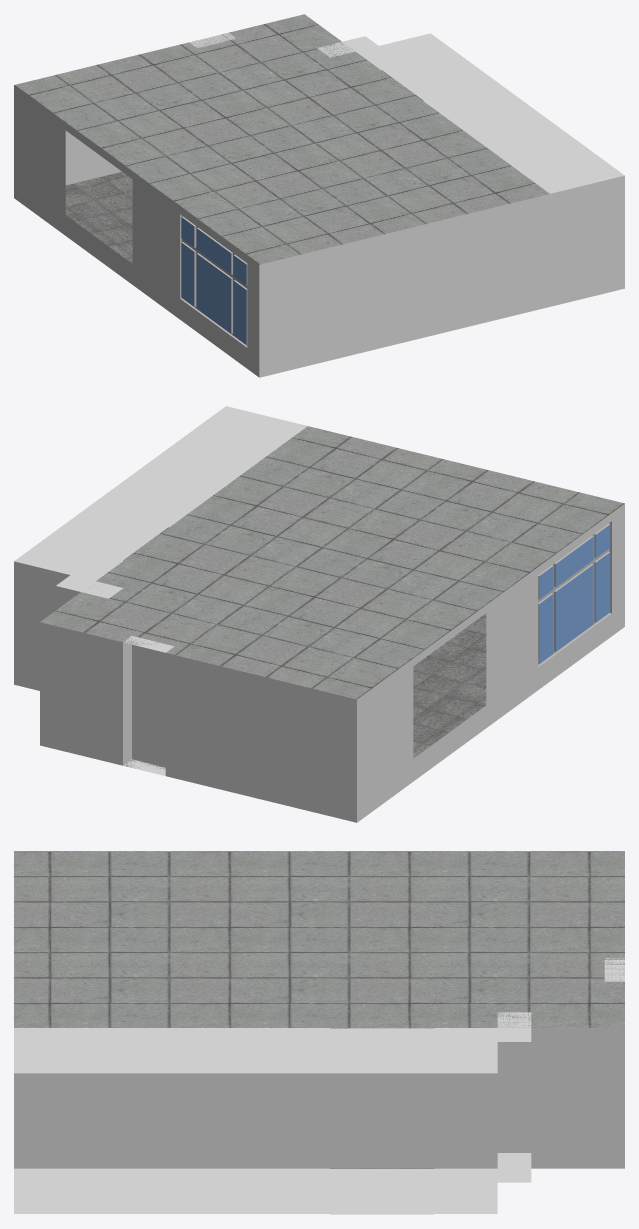
File: Aula 203.fbx
3 renders of one model, top to bottom at view 1: azimuth 30°, elevation 25°; view 2: azimuth 150°, elevation 25°; view 3: azimuth 270°, elevation 25°, orthographic. The views are drawn at different scales.
Parts seen in each view (by area): view 1: Paredes, Techo, Ventana, Piso; view 2: Techo, Paredes, Piso, Ventana; view 3: Paredes, Techo.
Part boxes in pixels (<box>): Paredes: <box>14,33,624,377</box>; Techo: <box>14,14,549,264</box>; Ventana: <box>180,214,247,347</box>; Piso: <box>65,172,132,263</box>; Techo: <box>40,426,624,699</box>; Paredes: <box>14,406,624,822</box>; Piso: <box>123,613,486,768</box>; Ventana: <box>538,521,611,666</box>; Paredes: <box>14,958,624,1214</box>; Techo: <box>14,851,624,1028</box>.
Size of the model in its own units: 2023 by 597 by 2348.
